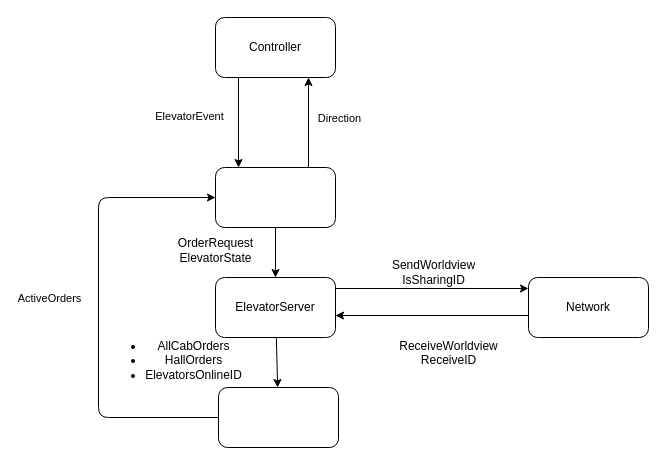
This 666x465 diagram has some shape labels left out. Here are the shapes that lost their labels. From the top down, the centre of each, then its label:
At (275,197): "CallHandler".
At (278,417): "OrderDistributor".
